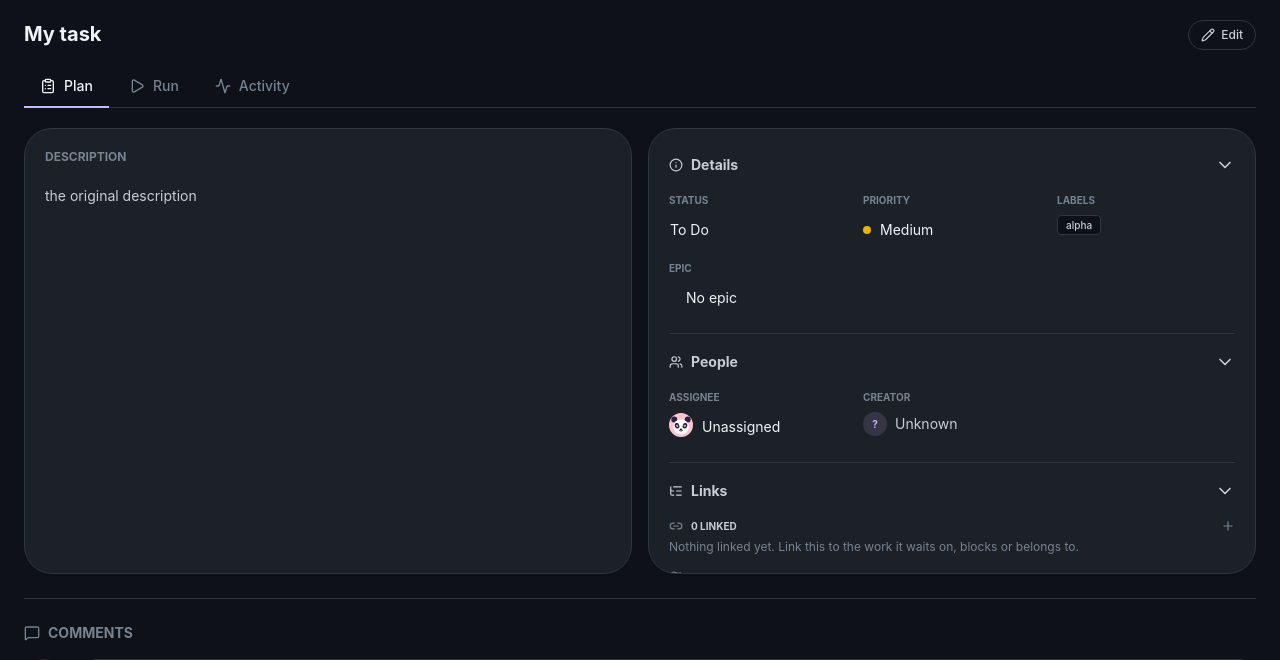
Test: TaskPage — detail view (AP-353) › keeps run info on the Run tab, out of the Plan tab
The width and height of the screenshot is (1280, 660).
Expected: the heading "My task" is shown, [24,20,102,48]
Expected: the text "all done" is not shown
Click the button "Run" at (154, 87), box [113,66,195,108]
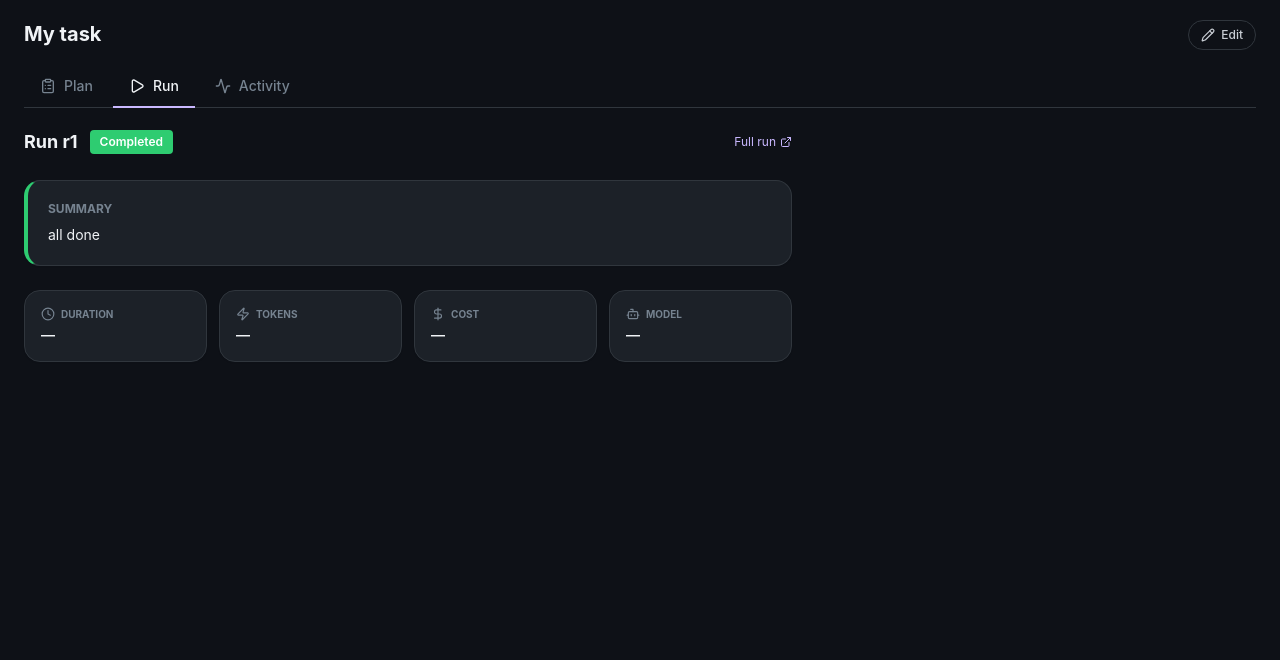
Expected: the text "all done" is shown, [48,226,100,243]
Expected: the element with test id "task-overview-section" is gone
